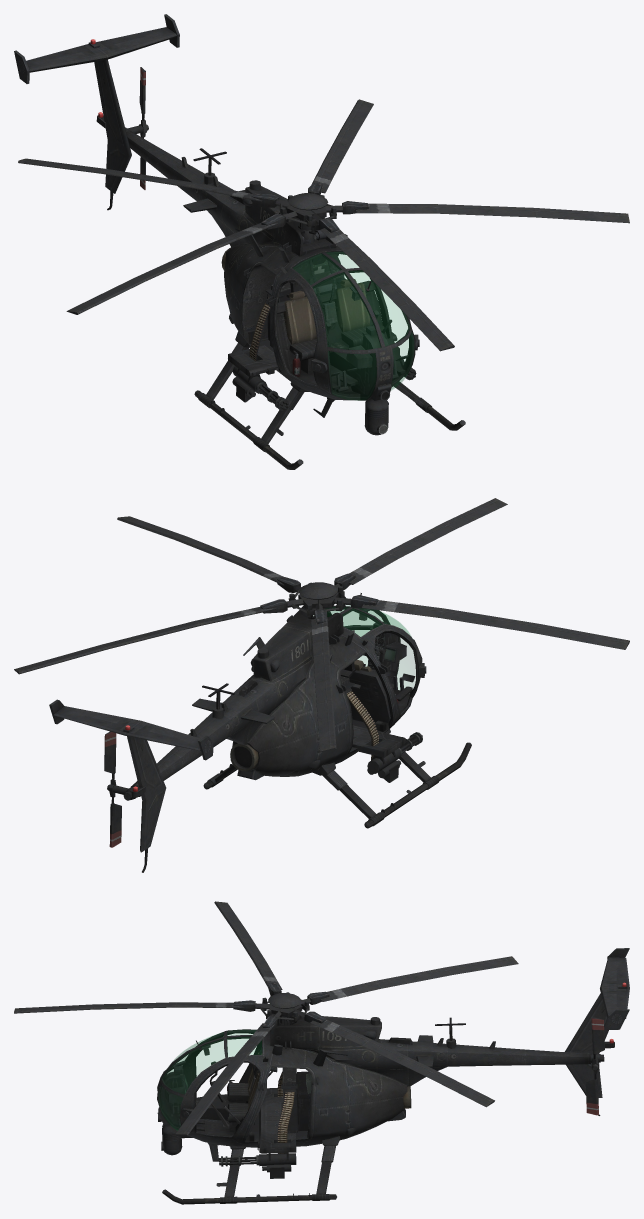
File: helicopter.glb
3 renders of one model, top to bottom at view 1: azimuth 30°, elevation 25°; view 2: azimuth 150°, elevation 25°; view 3: azimuth 270°, elevation 25°, orthographic. The views are drawn at different scales.
Parts seen in each view (by area): view 1: Body, MainRotor, Glass; view 2: Body, MainRotor, Glass, TailRotor; view 3: Body, MainRotor, Glass, TailRotor.
Boxes of the visible parts, box(x1,y1,x2,y2) form: Body: box(14, 14, 465, 469); MainRotor: box(18, 99, 629, 351); Glass: box(293, 252, 413, 400); Body: box(49, 593, 471, 872); MainRotor: box(14, 498, 629, 751); Glass: box(327, 605, 415, 689); TailRotor: box(104, 731, 121, 847); Body: box(157, 948, 629, 1204); MainRotor: box(14, 901, 518, 1136); Glass: box(159, 1030, 261, 1130); TailRotor: box(585, 1017, 604, 1115).
Size of the model in its own units: 8.18 by 3.27 by 9.74.
Materials: 2 (2 with a texture image).
